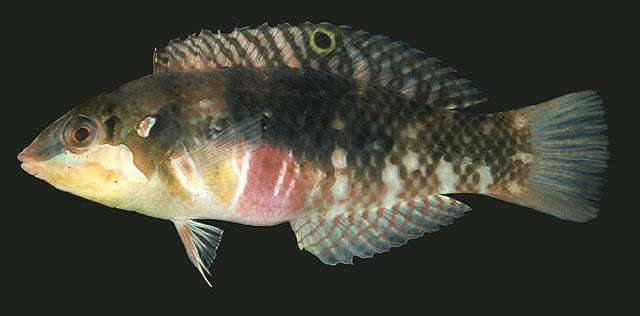fish: (18, 20, 610, 288)
